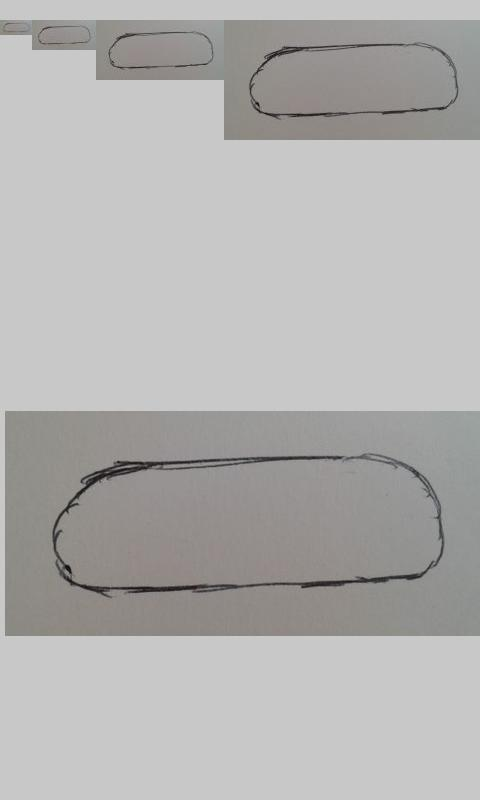chip: (51, 451, 448, 596), (248, 40, 459, 118), (108, 30, 214, 69), (37, 25, 91, 45), (3, 22, 31, 33)
